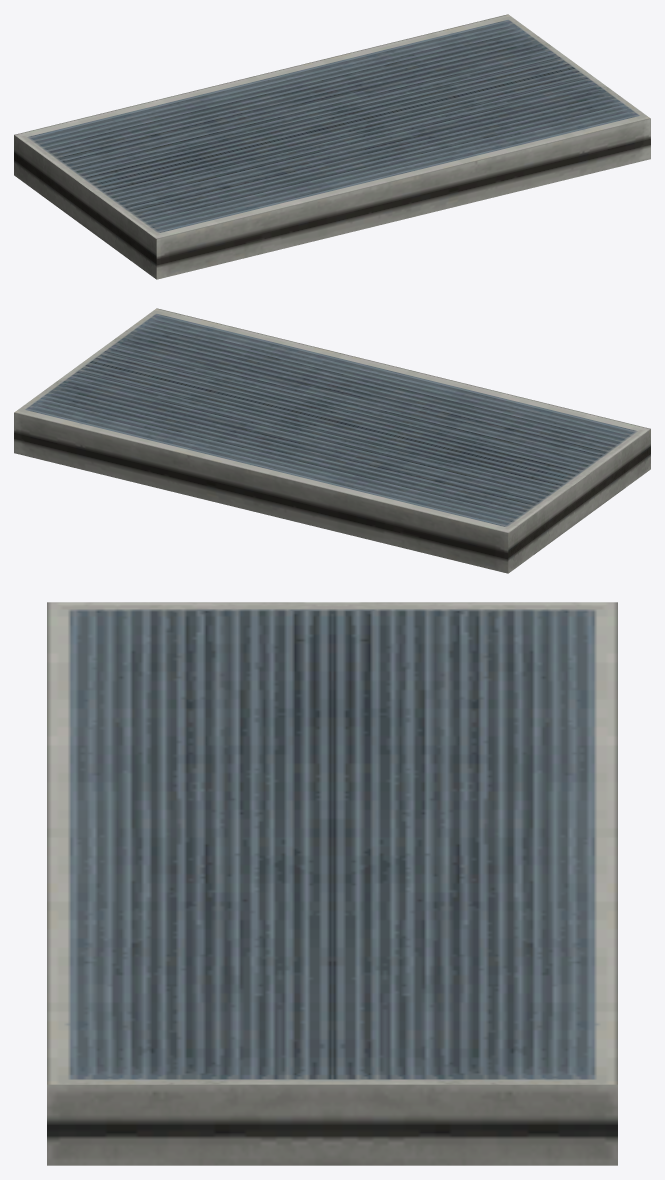
The model's file is Neon_CounterTop_03.FBX.
3 renders of one model, top to bottom at view 1: azimuth 30°, elevation 25°; view 2: azimuth 150°, elevation 25°; view 3: azimuth 270°, elevation 25°, orthographic. The views are drawn at different scales.
Visible parts, largest first — view 1: Neon_CounterTop_03; view 2: Neon_CounterTop_03; view 3: Neon_CounterTop_03.
Boxes of the visible parts, <box> form: Neon_CounterTop_03: <box>14,14,650,279</box>; Neon_CounterTop_03: <box>14,308,650,573</box>; Neon_CounterTop_03: <box>47,602,617,1165</box>.
Size of the model in its own units: 2 by 0.1565 by 1.
